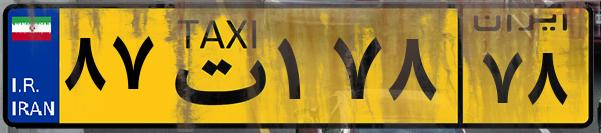1: (270, 28, 330, 110)
7: (330, 28, 385, 110), (475, 38, 525, 113), (110, 28, 158, 98)
8: (385, 28, 445, 110), (57, 26, 110, 100), (525, 38, 570, 115)
ت: (158, 12, 270, 120)
